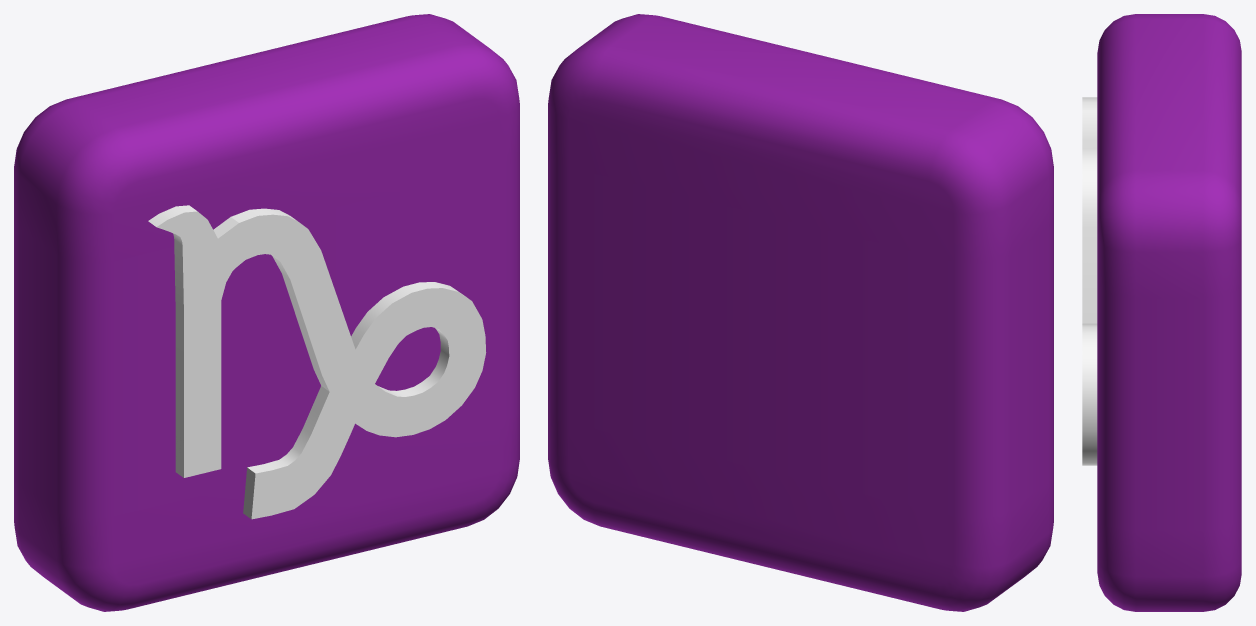
The model's file is capricorn.glb.
3 views of the same model, side by side, from view 1: azimuth 30°, elevation 25°; view 2: azimuth 150°, elevation 25°; view 3: azimuth 270°, elevation 25° (orthographic). The views are drawn at different scales.
Parts seen in each view (by area): view 1: Cube.6408; view 2: Cube.6408; view 3: Cube.6408.
Boxes of the visible parts, x1,y1,x2,y2 form: Cube.6408: (14, 14, 519, 611); Cube.6408: (548, 14, 1053, 611); Cube.6408: (1082, 14, 1241, 611).
Bounding box in the file's own units: 2.2 × 2.2 × 0.73.
Materials: 1 (1 with a texture image).
